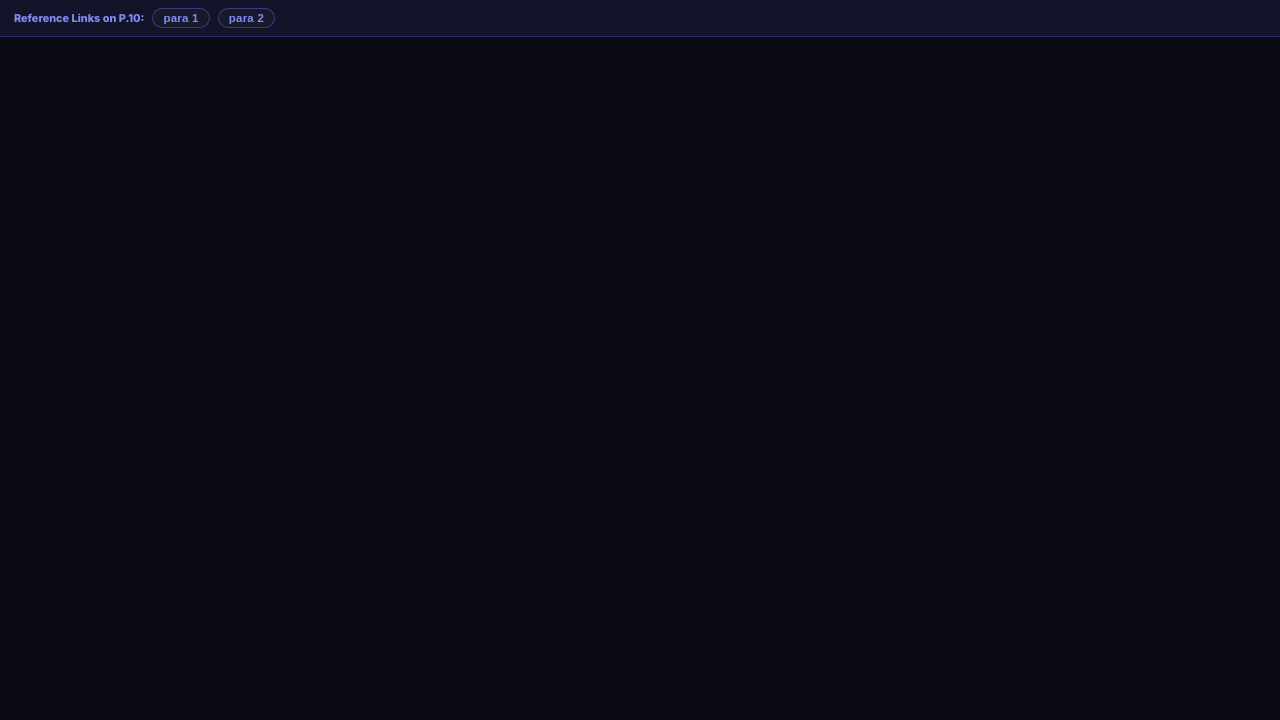
Test: PageReferenceBadges › clicking a second, different multi-candidate badge opens the picker for the new mention
Later steps or results of the test are not shown.
Click the button with test id "page-reference-badge-point:1" at [181, 18], box [152,8,210,28]
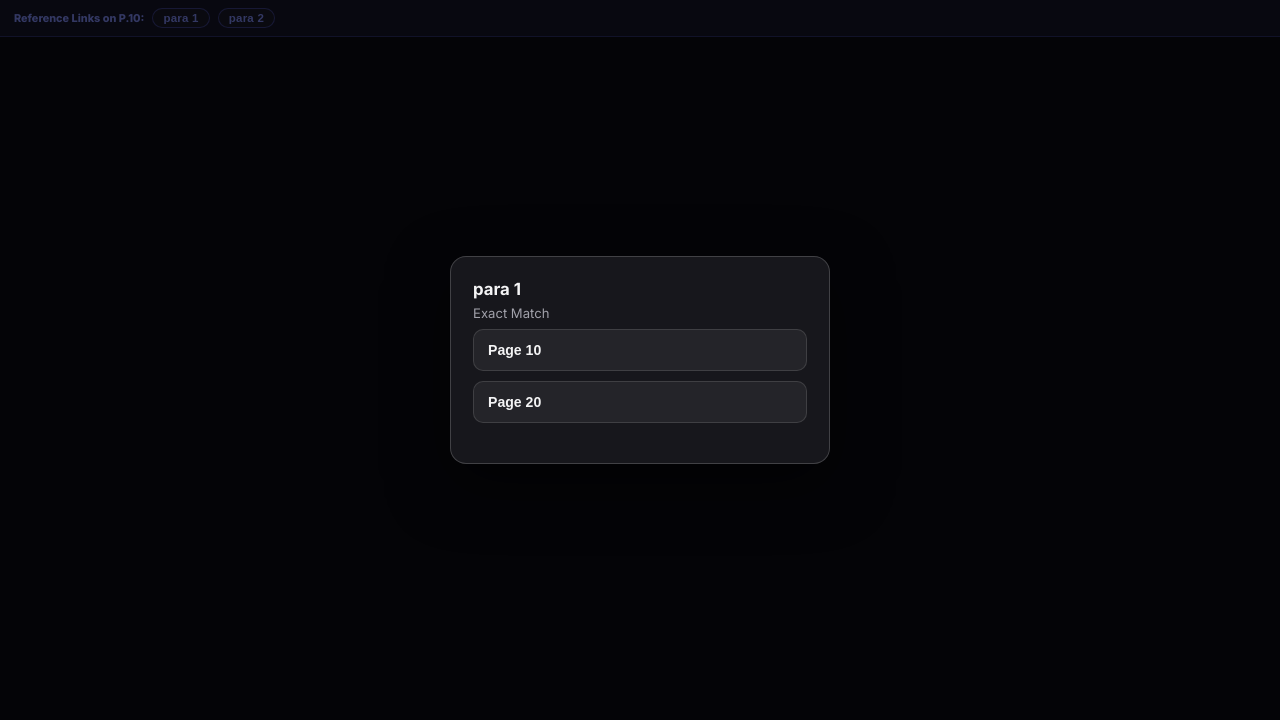
Check: the element with test id "page-reference-candidates-modal" shows "para 1", box [473,279,521,299]
